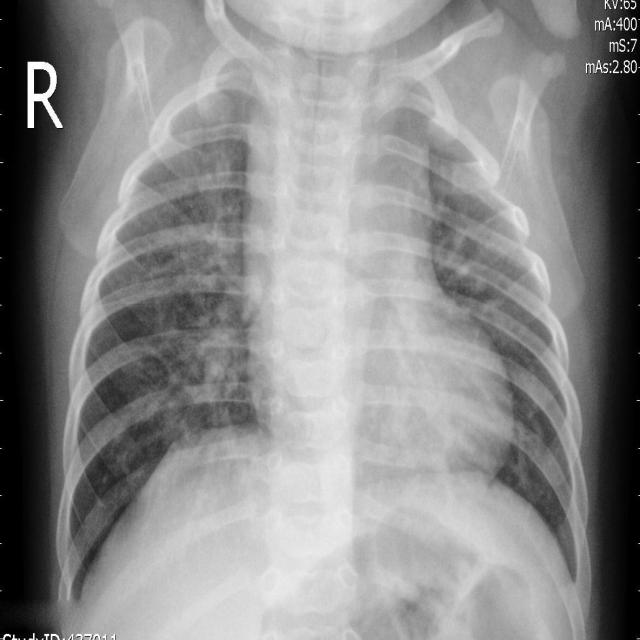low-pneumonia: (143, 54, 265, 310), (437, 139, 541, 340), (135, 309, 251, 442)
